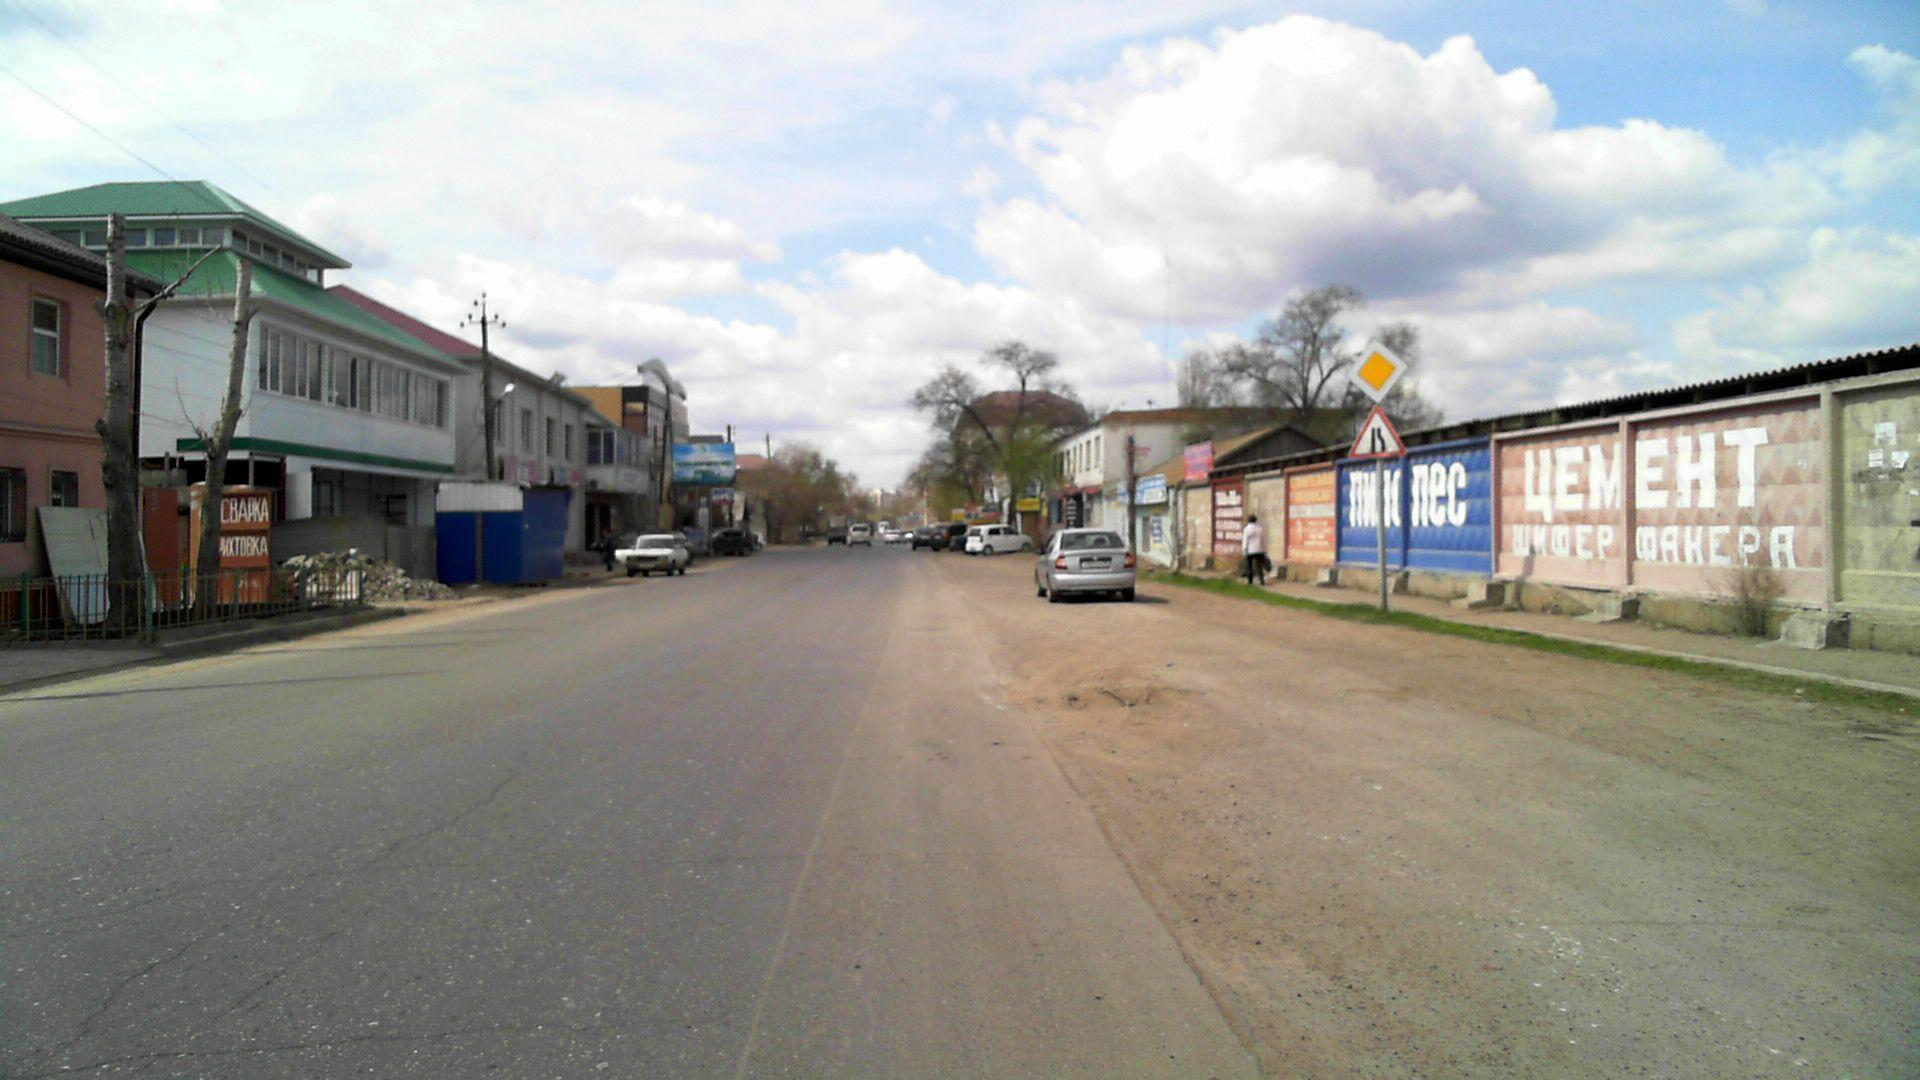1_20_2: (1341, 404, 1406, 458)
2_1: (1342, 340, 1414, 402)
